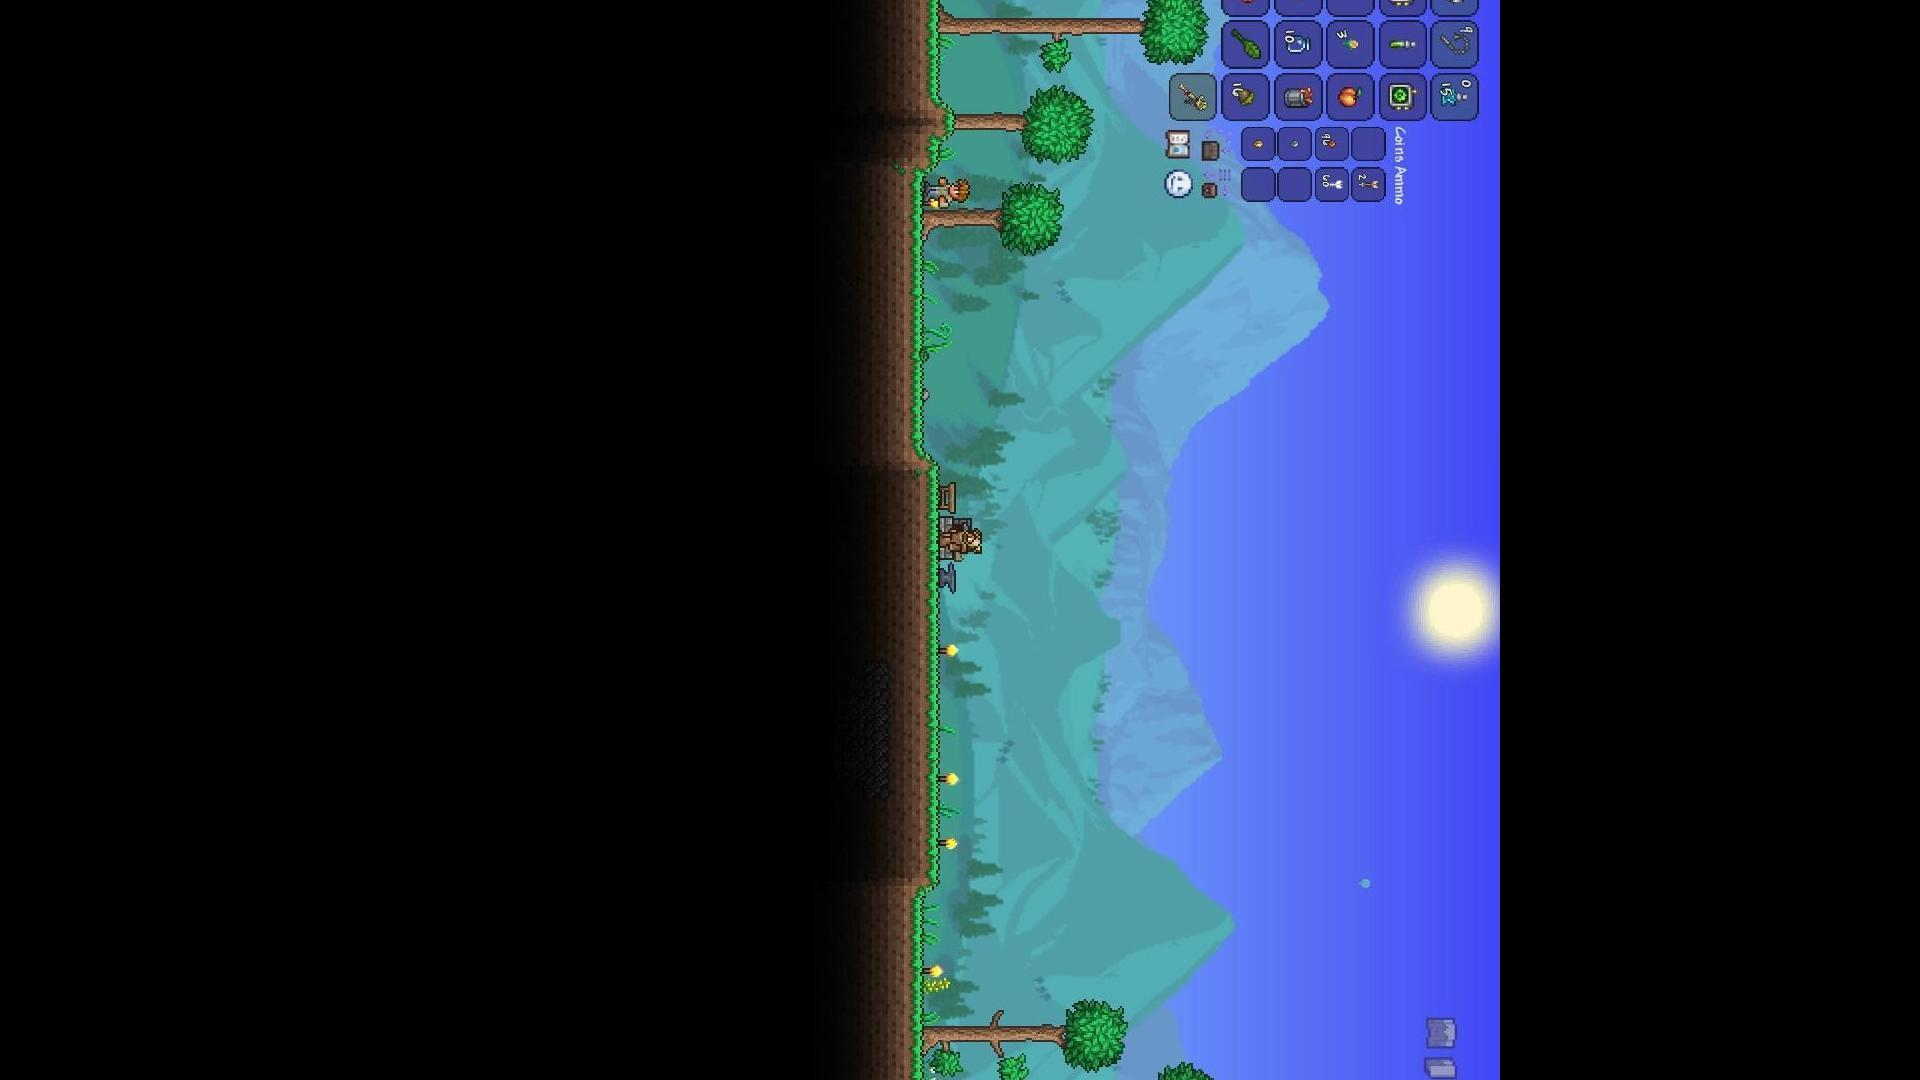anvil: (932, 563, 961, 597)
arrow: (1357, 178, 1378, 194)
recallP: (1440, 84, 1466, 108)
workbench: (935, 477, 960, 517)
